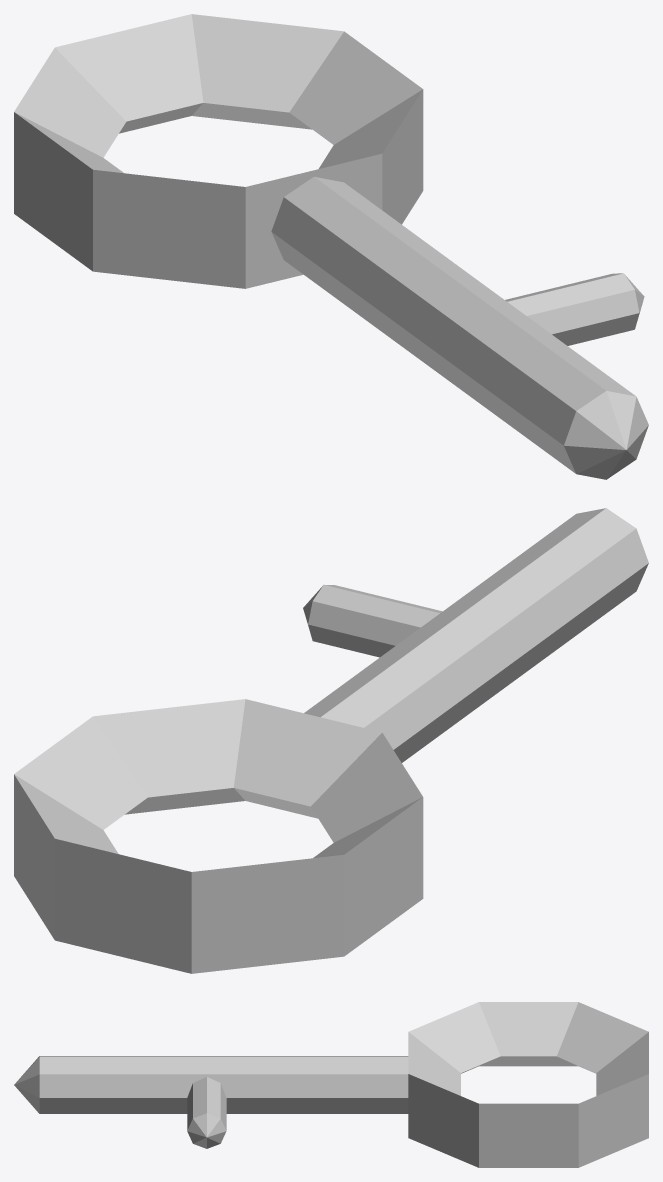
The model's file is Key_Silver.fbx.
3 views of the same model, one above another, from view 1: azimuth 30°, elevation 25°; view 2: azimuth 150°, elevation 25°; view 3: azimuth 270°, elevation 25° (orthographic). The views are drawn at different scales.
Visible parts, largest first — view 1: Key_Silver; view 2: Key_Silver; view 3: Key_Silver.
Part boxes in pixels (<box>): Key_Silver: <box>14,14,648,479</box>; Key_Silver: <box>14,508,648,973</box>; Key_Silver: <box>14,1002,648,1167</box>.
Size of the model in its own units: 1.88 by 0.5449 by 4.88.
